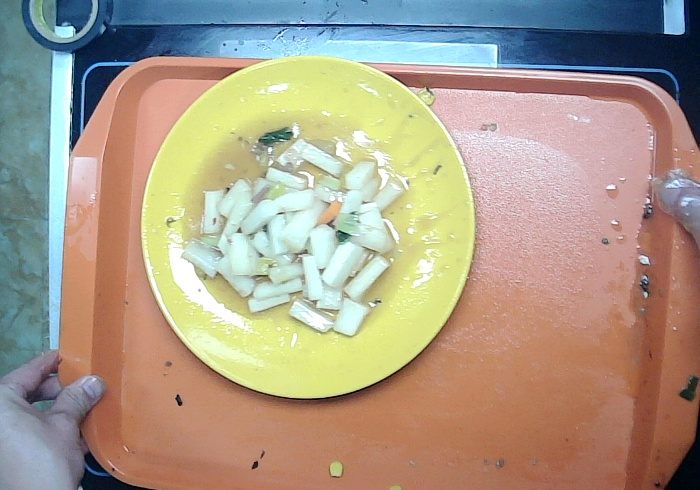HZYJPL-Huang_Se_Yuan_Pan: (141, 55, 478, 404)
